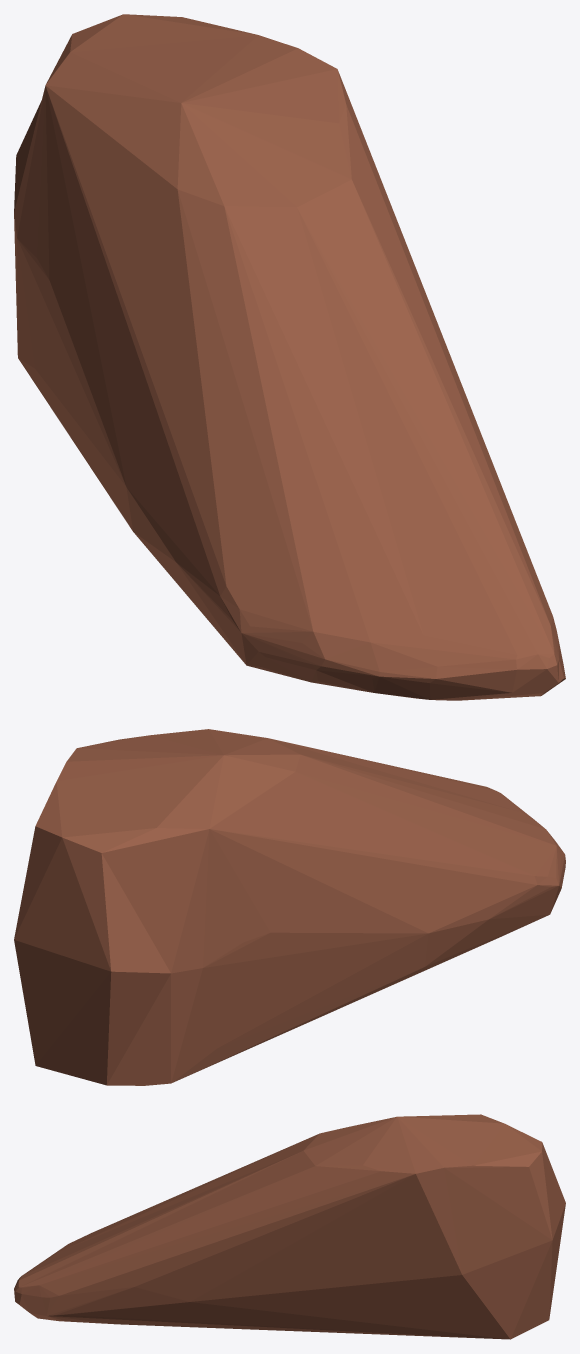
File: foot_right.dae
3 renders of one model, top to bottom at view 1: azimuth 30°, elevation 25°; view 2: azimuth 150°, elevation 25°; view 3: azimuth 270°, elevation 25°, orthographic. The views are drawn at different scales.
Parts seen in each view (by area): view 1: Foot; view 2: Foot; view 3: Foot.
Boxes of the visible parts, left/top/right/bottom form: Foot: left=14, top=14, right=565, bottom=700; Foot: left=14, top=729, right=565, bottom=1085; Foot: left=14, top=1114, right=565, bottom=1339.
Bounding box in the file's own units: 0.656 × 1.61 × 0.623.
